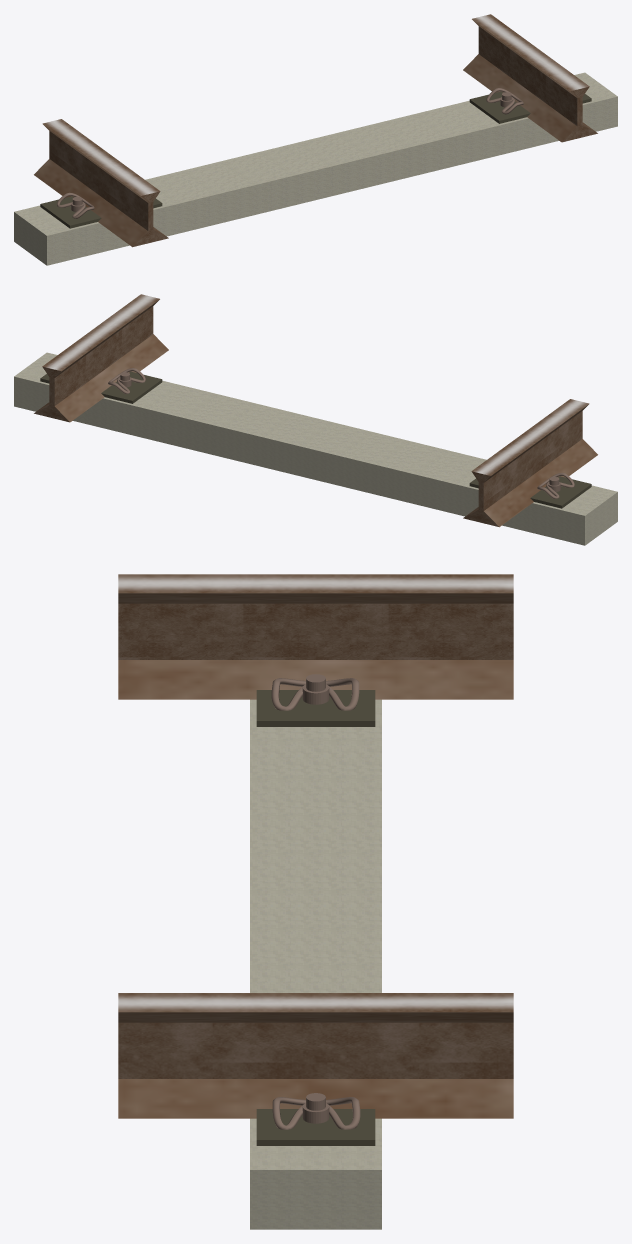
Rendered from v1.1_normalrail_type1_nothirdrail.obj.
3 views of the same model, one above another, from view 1: azimuth 30°, elevation 25°; view 2: azimuth 150°, elevation 25°; view 3: azimuth 270°, elevation 25° (orthographic). The views are drawn at different scales.
Visible parts, largest first — view 1: zhenmu_type1, rail, daoding_1.1; view 2: zhenmu_type1, rail, daoding_1.1; view 3: rail, zhenmu_type1, daoding_1.1.
Boxes of the visible parts, box(x1,y1,x2,y2) form: zhenmu_type1: box(14, 72, 617, 265); rail: box(34, 14, 597, 247); daoding_1.1: box(40, 88, 591, 228); zhenmu_type1: box(14, 352, 617, 545); rail: box(34, 294, 597, 527); daoding_1.1: box(40, 368, 591, 508); rail: box(118, 574, 513, 1118); zhenmu_type1: box(250, 699, 381, 1229); daoding_1.1: box(256, 674, 375, 1145).
Size of the model in its own units: 2 by 0.2643 by 0.6.
Materials: 5 (5 with a texture image).
